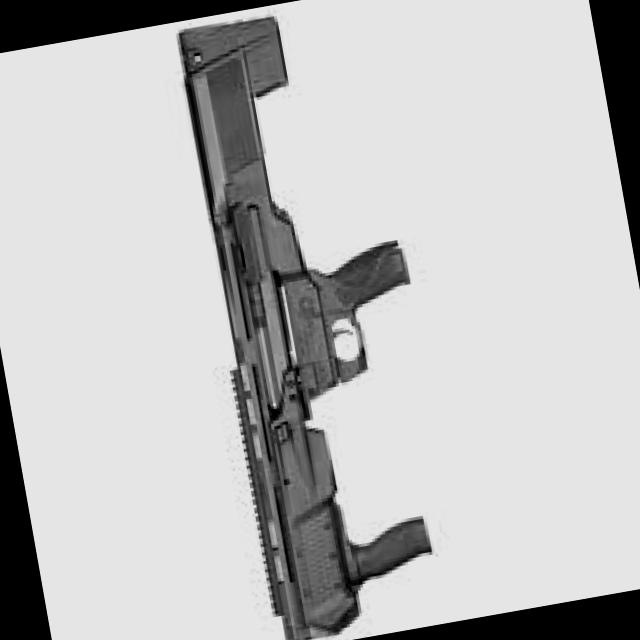long weapon: (160, 2, 456, 640)
